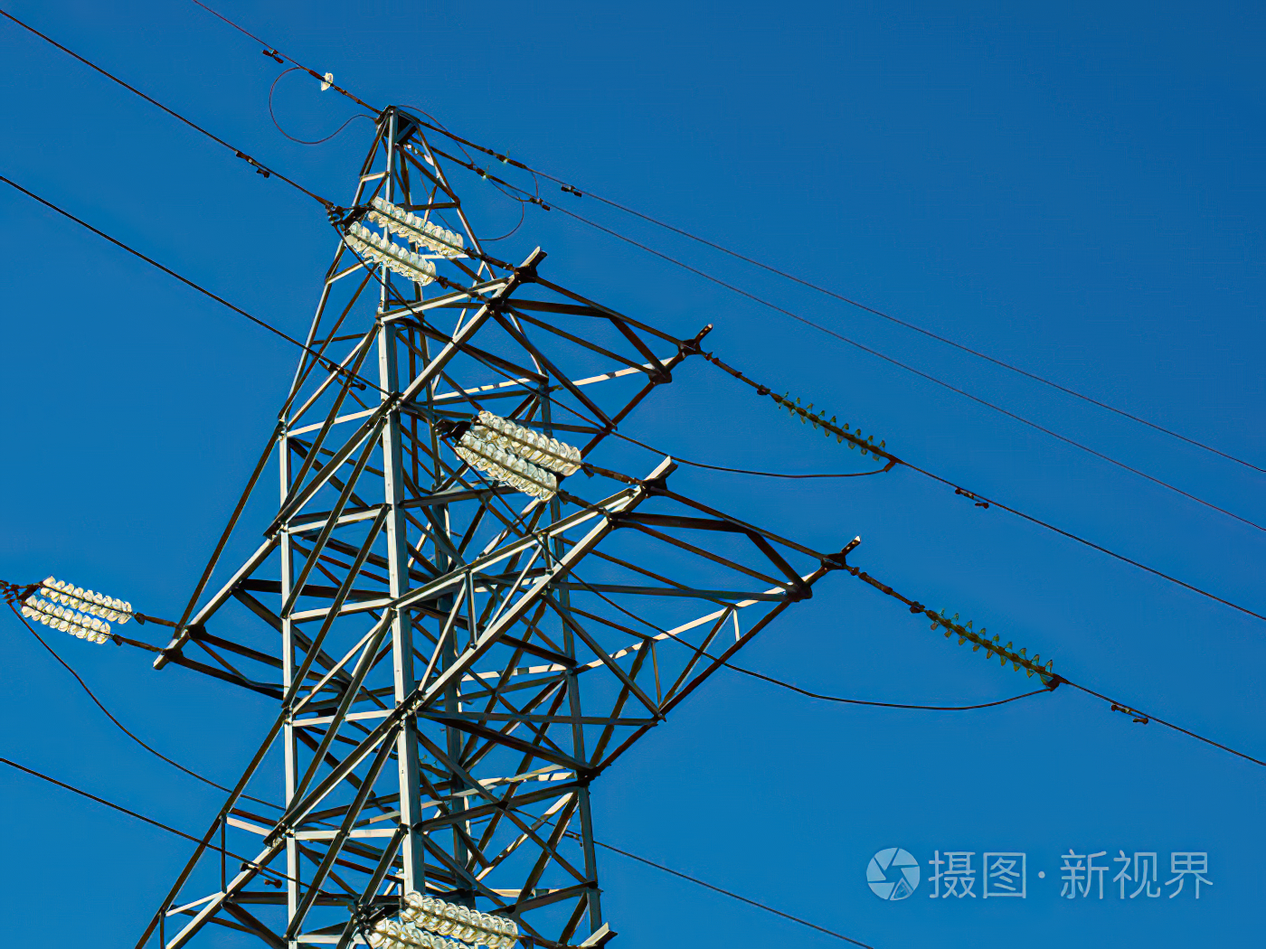insulator: (926, 607, 1056, 687), (774, 390, 888, 462), (399, 890, 524, 949), (468, 412, 581, 476), (455, 437, 560, 503), (342, 224, 438, 287), (368, 199, 463, 259), (35, 577, 133, 625), (21, 597, 114, 647), (358, 917, 471, 949)
